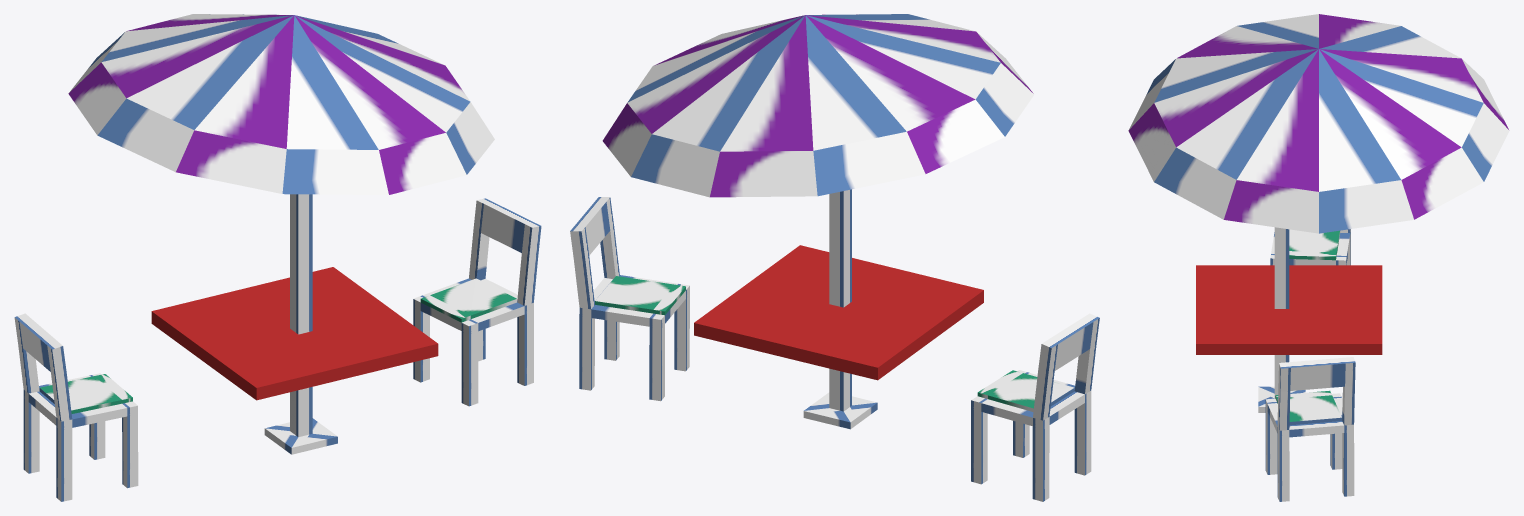
Rendered from zhuangshi_23.FBX.
The picture shows the model from 3 angles, left to right: view 1: azimuth 30°, elevation 25°; view 2: azimuth 150°, elevation 25°; view 3: azimuth 270°, elevation 25°; orthographic projection. The views are drawn at different scales.
Parts seen in each view (by area): view 1: zhuangshi_23; view 2: zhuangshi_23; view 3: zhuangshi_23.
Boxes of the visible parts, x1=… form: zhuangshi_23: x1=14, y1=14, x2=541, y2=501; zhuangshi_23: x1=570, y1=14, x2=1099, y2=501; zhuangshi_23: x1=1128, y1=14, x2=1509, y2=501.
Bounding box in the file's own units: 1234 × 973 × 933.
